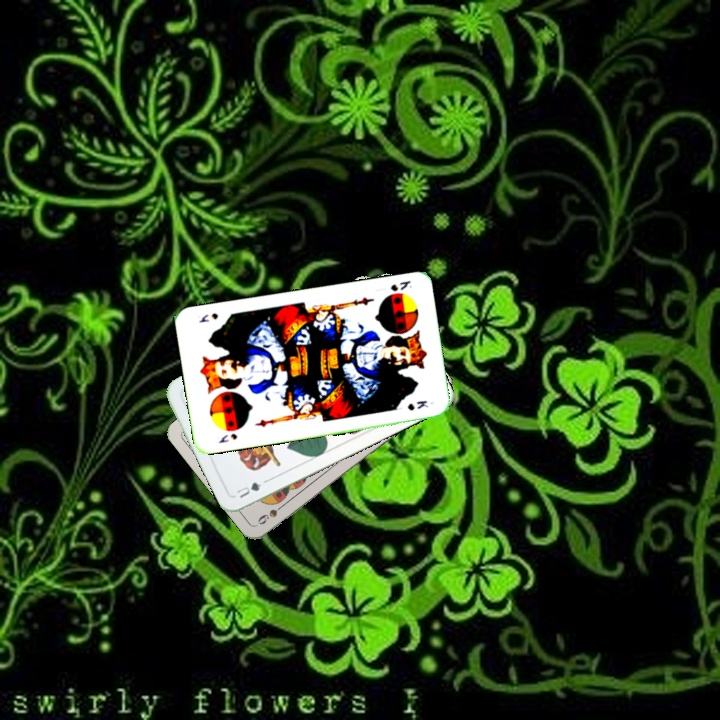GU: (232, 476, 270, 501)
S9: (253, 498, 289, 527)
SK: (387, 276, 414, 294), (215, 429, 240, 446)
